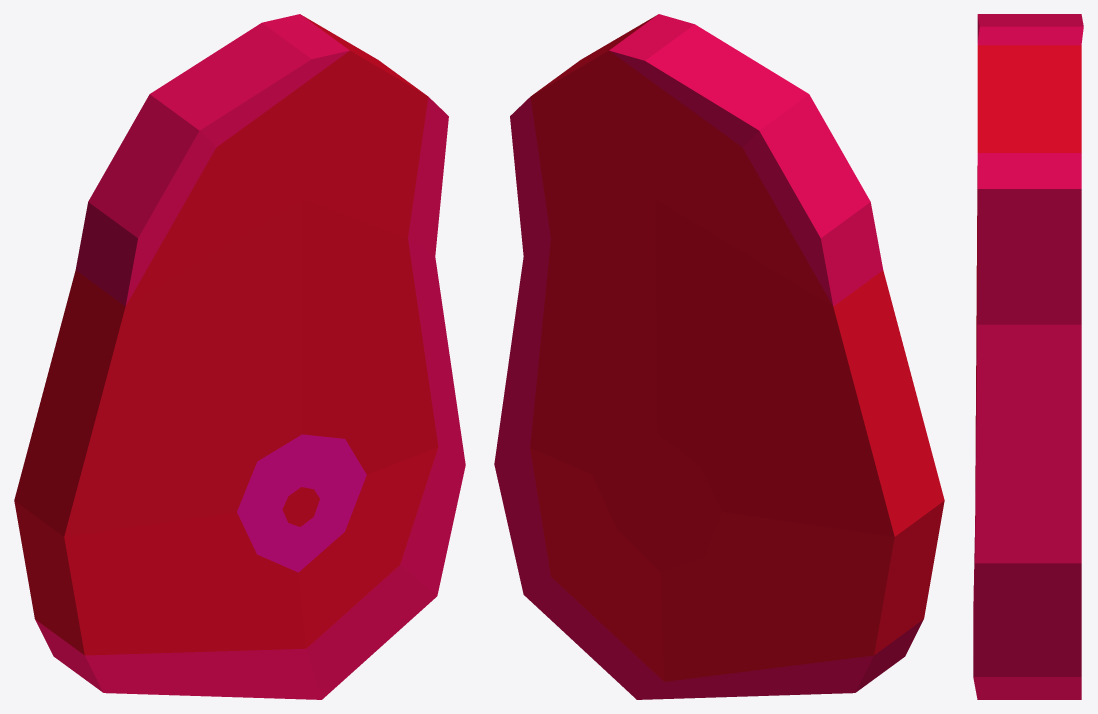
Rendered from Steak_01.fbx.
3 renders of one model, left to right at view 1: azimuth 30°, elevation 25°; view 2: azimuth 150°, elevation 25°; view 3: azimuth 270°, elevation 25°, orthographic. The views are drawn at different scales.
Visible parts, largest first — view 1: Steak_01; view 2: Steak_01; view 3: Steak_01.
Part boxes in pixels (x1,y1,x2,y2): Steak_01: (14, 14, 465, 699); Steak_01: (494, 14, 944, 699); Steak_01: (973, 14, 1083, 699).
Size of the model in its own units: 4.57 by 7.01 by 1.05.
